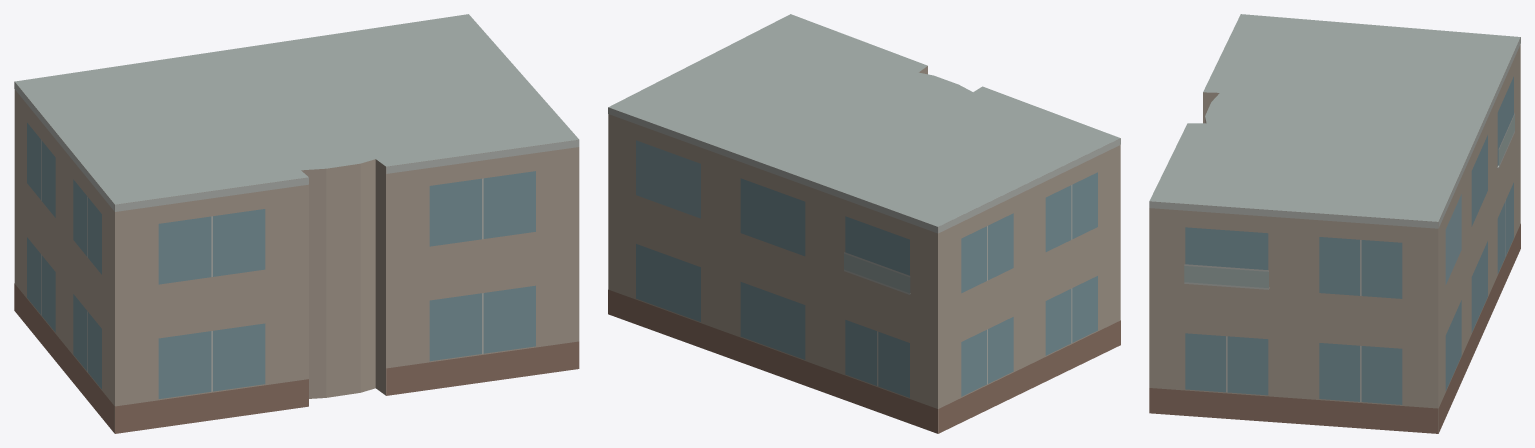
The model's file is survey-upis-32536313.glb.
3 views of the same model, side by side, from view 1: azimuth 30°, elevation 25°; view 2: azimuth 150°, elevation 25°; view 3: azimuth 270°, elevation 25° (orthographic). The views are drawn at different scales.
Visible parts, largest first — view 1: survey-upis-32536313.tmp; view 2: survey-upis-32536313.tmp; view 3: survey-upis-32536313.tmp.
Boxes of the visible parts, x1,y1,x2,y2 form: survey-upis-32536313.tmp: (14,14,579,433); survey-upis-32536313.tmp: (608,14,1120,433); survey-upis-32536313.tmp: (1149,14,1520,433).
Size of the model in its own units: 16 by 7.6 by 12.08.
